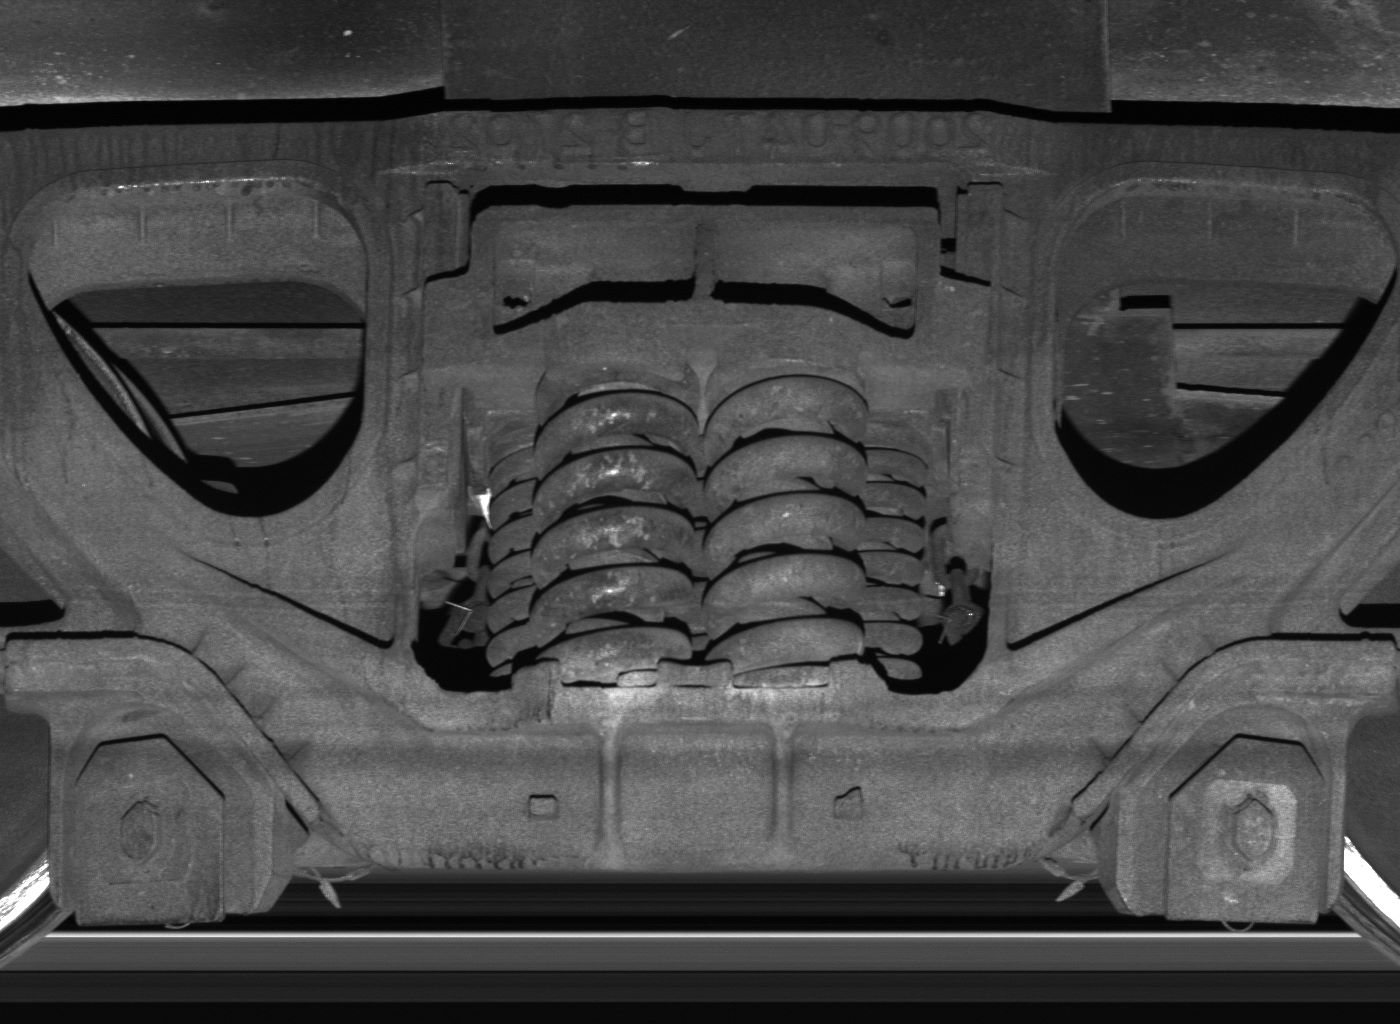normal: (48, 696, 275, 921), (1116, 702, 1342, 925)
